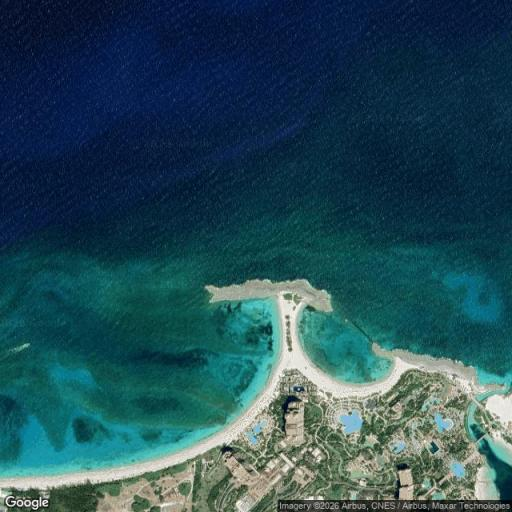ship: (2, 333, 46, 357)
